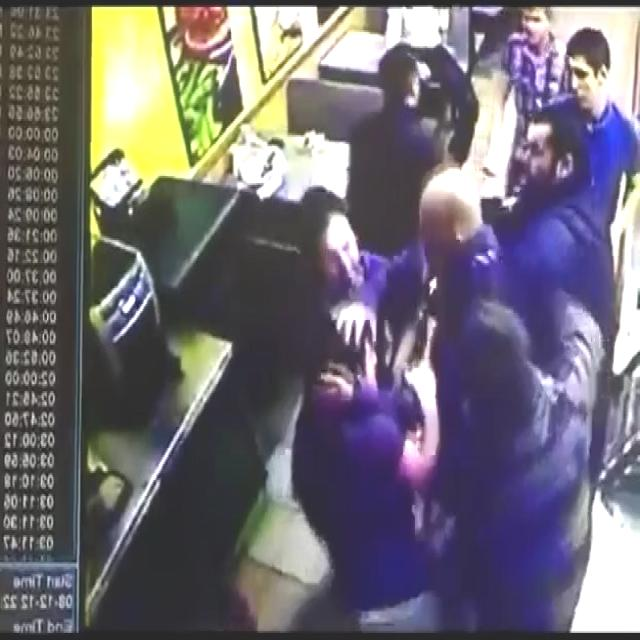fight: (312, 164, 492, 640)
